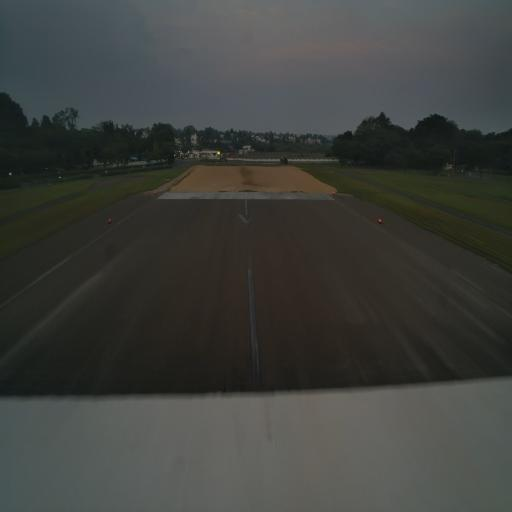on: (105, 214, 114, 226), (376, 215, 384, 228)
